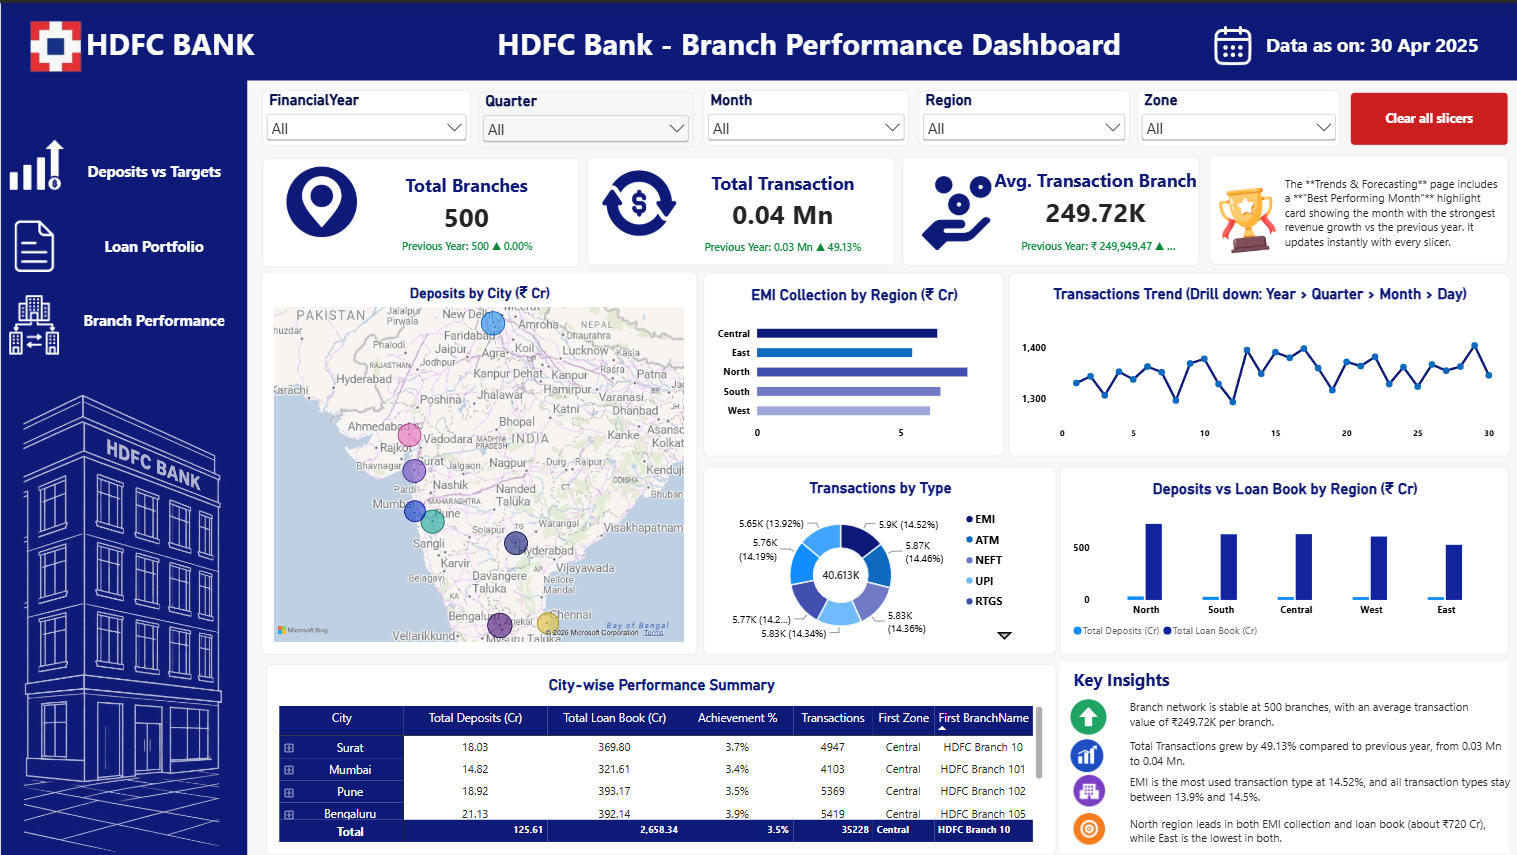

What the dashboard file says about the page in this screenshot:
{"tool":"powerbi","page":{"name":"Branch Performance","canvas":[1920,1080],"ordinal":2},"visuals":[{"type":"shape","box":[12.4,0,1907.6,98.1],"z":0},{"type":"shape","box":[0,0,311.6,1078.7],"z":1000},{"type":"group","id":"g1","title":"Group 7","box":[328.3,340,551.7,485],"z":1000,"group":"g8"},{"type":"image","box":[13,426.3,281.3,653.6],"z":2000},{"type":"image","box":[12.7,0,117,110.7],"z":3000,"group":"g2"},{"type":"textbox","box":[568,26,910,60],"z":3000},{"type":"textbox","box":[107.6,25.3,237.3,60.1],"z":4000,"group":"g2"},{"type":"slicer","fields":{"Values":["DimDate.Year"]},"box":[330,111,264,70],"z":4000},{"type":"slicer","fields":{"Values":["DimDate.Month"]},"box":[889,111,260,70],"z":5000},{"type":"image","box":[1516.9,25.3,83.8,60.1],"z":6000,"group":"g4"},{"type":"slicer","fields":{"Values":["DimBranch.Region"]},"box":[1161,111,267,70],"z":6000},{"type":"textbox","box":[1600.7,36.4,295.8,49],"z":7000,"group":"g4"},{"type":"slicer","fields":{"Values":["DimBranch.Zone"]},"box":[1438,110,257,71],"z":7000},{"type":"slicer","fields":{"Values":["DimDate.Quarter"]},"box":[605,111.7,272,71],"z":8000},{"type":"image","box":[9.5,170.8,71.2,68],"z":8000,"group":"g3"},{"type":"group","id":"g2","title":"Group 1","box":[12.7,0,332.2,110.7],"z":9000},{"type":"image","box":[3.2,368.5,77.5,77.5],"z":9000,"group":"g3"},{"type":"group","id":"g3","title":"Group 2","box":[3.2,170.8,292.6,275.2],"z":10000},{"type":"image","box":[12.7,275.2,79.1,69.6],"z":10000,"group":"g3"},{"type":"group","id":"g4","title":"Group 3","box":[1516.9,25.3,379.6,60.1],"z":11000},{"type":"pageNavigator","box":[91.8,170.8,204,275.2],"z":11000,"group":"g3"},{"type":"shape","box":[1530,193.3,378.3,138.3],"z":12000},{"type":"shape","box":[330,195.8,400.8,138.2],"z":12000,"group":"g5"},{"type":"shape","box":[742,194,389.2,137.7],"z":13000,"group":"g6"},{"type":"image","box":[1530,213.3,95,123.3],"z":13000},{"type":"shape","box":[1140,194,376,138],"z":14000,"group":"g7"},{"type":"group","id":"g5","title":"Group 4","box":[330,195.8,400.8,150.8],"z":14000},{"type":"group","id":"g6","title":"Group 5","box":[742,194,420.7,146.7],"z":15000},{"type":"group","id":"g7","title":"Group 6","box":[1140,194,391.7,147.7],"z":16000},{"type":"clusteredBarChart","title":"EMI Collection by Region (₹ Cr)","fields":{"Category":["DimBranch.Region","DimBranch.City","DimBranch.BranchName","DimBranch.Zone"],"Y":["BranchDepositTargets.Total EMI Collection (Cr)"]},"box":[888.3,341.7,380,231.7],"z":17000},{"type":"cardVisual","fields":{"Data":["BranchDepositTargets.Total Branches"]},"box":[472.1,204.8,232.7,96.4],"z":18000,"group":"g5"},{"type":"donutChart","title":"Transactions by Type","fields":{"Category":["FactTransactions.TransactionType"],"Y":["CountNonNull(FactTransactions.TransactionID)"]},"box":[888.3,586.7,446.7,238.3],"z":18000},{"type":"cardVisual","fields":{"Data":["BranchDepositTargets.Total Branches Subtitle"]},"box":[472.1,266.3,234.8,80.3],"z":19000,"group":"g5"},{"type":"lineChart","title":"Transactions Trend (Drill down: Year > Quarter > Month > Day)","fields":{"Category":["DimDate.Date.Variation.Date Hierarchy.Year","DimDate.Date.Variation.Date Hierarchy.Quarter","DimDate.Date.Variation.Date Hierarchy.Month","DimDate.Date.Variation.Date Hierarchy.Day"],"Y":["CountNonNull(FactTransactions.TransactionID)"]},"box":[1275,341.7,635,231.7],"z":19000},{"type":"image","box":[356.8,203.8,96.5,95.4],"z":20000,"group":"g5"},{"type":"clusteredColumnChart","title":"Deposits vs Loan Book by Region (₹ Cr)","fields":{"Category":["DimBranch.Region"],"Y":["BranchDepositTargets.Total Deposits (Cr)","BranchDepositTargets.Total Loan Book (Cr)"]},"box":[1340,586.7,568.3,238.3],"z":20000},{"type":"cardVisual","fields":{"Data":["BranchDepositTargets.Total Transactions (Mn)"]},"box":[878.8,203.8,223.8,93.8],"z":21000,"group":"g6"},{"type":"group","id":"g8","title":"Group 8","box":[328.3,340,551.7,485],"z":21000},{"type":"image","box":[761.2,205,93.8,95],"z":22000,"group":"g6"},{"type":"pivotTable","title":"City-wise Performance Summary","fields":{"Rows":["DimBranch.City","DimBranch.Region","DimBranch.Zone","DimBranch.BranchName"],"Values":["BranchDepositTargets.Total Deposits (Cr)","BranchDepositTargets.Total Loan Book (Cr)","BranchDepositTargets.Achievement %","BranchDepositTargets.Transactions","Min(DimBranch.Zone)","Min(DimBranch.BranchName)"]},"box":[335,836.7,1000,241.7],"z":22000},{"type":"cardVisual","fields":{"Data":["BranchDepositTargets.Total Transactions Subtitle"]},"box":[816.7,276.7,346,64],"z":23000,"group":"g6"},{"type":"map","title":"Deposits by City (₹ Cr)","fields":{"Category":["DimBranch.City"],"Size":["BranchDepositTargets.Total Deposits (Cr)"],"X":["Avg(DimBranch.Longitude)"],"Y":["Avg(DimBranch.Latitude)"]},"box":[328.3,340,551.7,485],"z":23000,"group":"g1"},{"type":"shape","box":[1340,833.3,568.3,241.7],"z":23000},{"type":"image","box":[1162,218,93.8,95],"z":23502,"group":"g7"},{"type":"textbox","box":[1428.3,930,471.7,46.7],"z":24000},{"type":"cardVisual","fields":{"Data":["BranchDepositTargets.Average Transaction Value"]},"box":[1238.3,202.3,293.3,90],"z":24002,"group":"g7"},{"type":"cardVisual","fields":{"Data":["BranchDepositTargets.Average Transaction Previous Year + Growth"]},"box":[1275,271.7,228,70],"z":24502,"group":"g7"},{"type":"textbox","box":[1428.3,976.7,483.3,48.3],"z":25000},{"type":"textbox","box":[1428.3,1028.3,468.3,51.7],"z":26000},{"type":"textbox","box":[1428.3,881.7,461.7,43.3],"z":27000},{"type":"image","box":[1346.7,881.7,60,45],"z":28000},{"type":"image","box":[1341.7,931.7,65,41.7],"z":29000},{"type":"image","box":[1356.7,973.3,40,48.3],"z":30000},{"type":"image","box":[1356.7,1021.7,40,46.7],"z":31000},{"type":"textbox","box":[1356.7,841.7,150,40],"z":32000},{"type":"actionButton","box":[1706.7,112,201.3,68.7],"z":32001},{"type":"textbox","box":[1624.4,218.3,272.1,113.9],"z":32002}]}

Visuals, with their boxes on the page's 1920x1080 design canvas (x1, y1, x2, y2). These are canvas units, not pixel positions in the 1517x855 screenshot, which may show the page scaled, cropped or inside an application window:
shape: [x1=12, y1=0, x2=1920, y2=98]
shape: [x1=0, y1=0, x2=312, y2=1079]
"Group 7" group: [x1=328, y1=340, x2=880, y2=825]
image: [x1=13, y1=426, x2=294, y2=1080]
image: [x1=13, y1=0, x2=130, y2=111]
textbox: [x1=568, y1=26, x2=1478, y2=86]
textbox: [x1=108, y1=25, x2=345, y2=85]
slicer - DimDate.Year: [x1=330, y1=111, x2=594, y2=181]
slicer - DimDate.Month: [x1=889, y1=111, x2=1149, y2=181]
image: [x1=1517, y1=25, x2=1601, y2=85]
slicer - DimBranch.Region: [x1=1161, y1=111, x2=1428, y2=181]
textbox: [x1=1601, y1=36, x2=1896, y2=85]
slicer - DimBranch.Zone: [x1=1438, y1=110, x2=1695, y2=181]
slicer - DimDate.Quarter: [x1=605, y1=112, x2=877, y2=183]
image: [x1=10, y1=171, x2=81, y2=239]
"Group 1" group: [x1=13, y1=0, x2=345, y2=111]
image: [x1=3, y1=368, x2=81, y2=446]
"Group 2" group: [x1=3, y1=171, x2=296, y2=446]
image: [x1=13, y1=275, x2=92, y2=345]
"Group 3" group: [x1=1517, y1=25, x2=1896, y2=85]
pageNavigator: [x1=92, y1=171, x2=296, y2=446]
shape: [x1=1530, y1=193, x2=1908, y2=332]
shape: [x1=330, y1=196, x2=731, y2=334]
shape: [x1=742, y1=194, x2=1131, y2=332]
image: [x1=1530, y1=213, x2=1625, y2=337]
shape: [x1=1140, y1=194, x2=1516, y2=332]
"Group 4" group: [x1=330, y1=196, x2=731, y2=347]
"Group 5" group: [x1=742, y1=194, x2=1163, y2=341]
"Group 6" group: [x1=1140, y1=194, x2=1532, y2=342]
"EMI Collection by Region (₹ Cr)" clusteredBarChart: [x1=888, y1=342, x2=1268, y2=573]
cardVisual - BranchDepositTargets.Total Branches: [x1=472, y1=205, x2=705, y2=301]
"Transactions by Type" donutChart: [x1=888, y1=587, x2=1335, y2=825]
cardVisual - BranchDepositTargets.Total Branches Subtitle: [x1=472, y1=266, x2=707, y2=347]
"Transactions Trend (Drill down: Year > Quarter > Month > Day)" lineChart: [x1=1275, y1=342, x2=1910, y2=573]
image: [x1=357, y1=204, x2=453, y2=299]
"Deposits vs Loan Book by Region (₹ Cr)" clusteredColumnChart: [x1=1340, y1=587, x2=1908, y2=825]
cardVisual - BranchDepositTargets.Total Transactions (Mn): [x1=879, y1=204, x2=1103, y2=298]
"Group 8" group: [x1=328, y1=340, x2=880, y2=825]
image: [x1=761, y1=205, x2=855, y2=300]
"City-wise Performance Summary" pivotTable: [x1=335, y1=837, x2=1335, y2=1078]
cardVisual - BranchDepositTargets.Total Transactions Subtitle: [x1=817, y1=277, x2=1163, y2=341]
"Deposits by City (₹ Cr)" map: [x1=328, y1=340, x2=880, y2=825]
shape: [x1=1340, y1=833, x2=1908, y2=1075]
image: [x1=1162, y1=218, x2=1256, y2=313]
textbox: [x1=1428, y1=930, x2=1900, y2=977]
cardVisual - BranchDepositTargets.Average Transaction Value: [x1=1238, y1=202, x2=1532, y2=292]
cardVisual - BranchDepositTargets.Average Transaction Previous Year + Growth: [x1=1275, y1=272, x2=1503, y2=342]
textbox: [x1=1428, y1=977, x2=1912, y2=1025]
textbox: [x1=1428, y1=1028, x2=1897, y2=1080]
textbox: [x1=1428, y1=882, x2=1890, y2=925]
image: [x1=1347, y1=882, x2=1407, y2=927]
image: [x1=1342, y1=932, x2=1407, y2=973]
image: [x1=1357, y1=973, x2=1397, y2=1022]
image: [x1=1357, y1=1022, x2=1397, y2=1068]
textbox: [x1=1357, y1=842, x2=1507, y2=882]
actionButton: [x1=1707, y1=112, x2=1908, y2=181]
textbox: [x1=1624, y1=218, x2=1896, y2=332]
